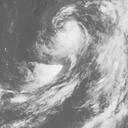cyclone: (46, 7, 88, 57)
